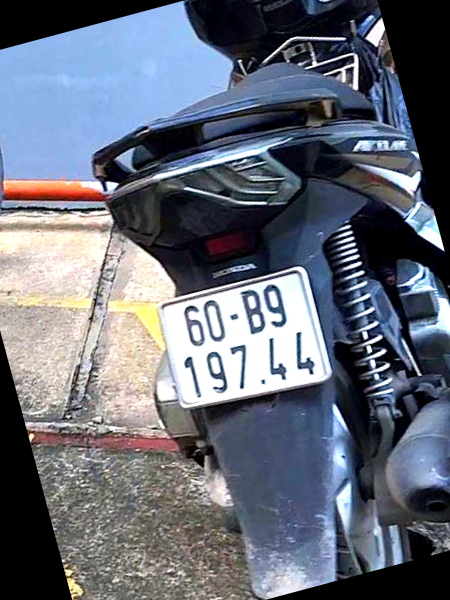number: (158, 265, 330, 409)
